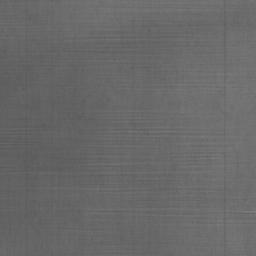Waist folding: (0, 109, 256, 227), (49, 2, 256, 63), (138, 72, 256, 89), (114, 250, 256, 256), (0, 90, 25, 105), (0, 0, 55, 4)
